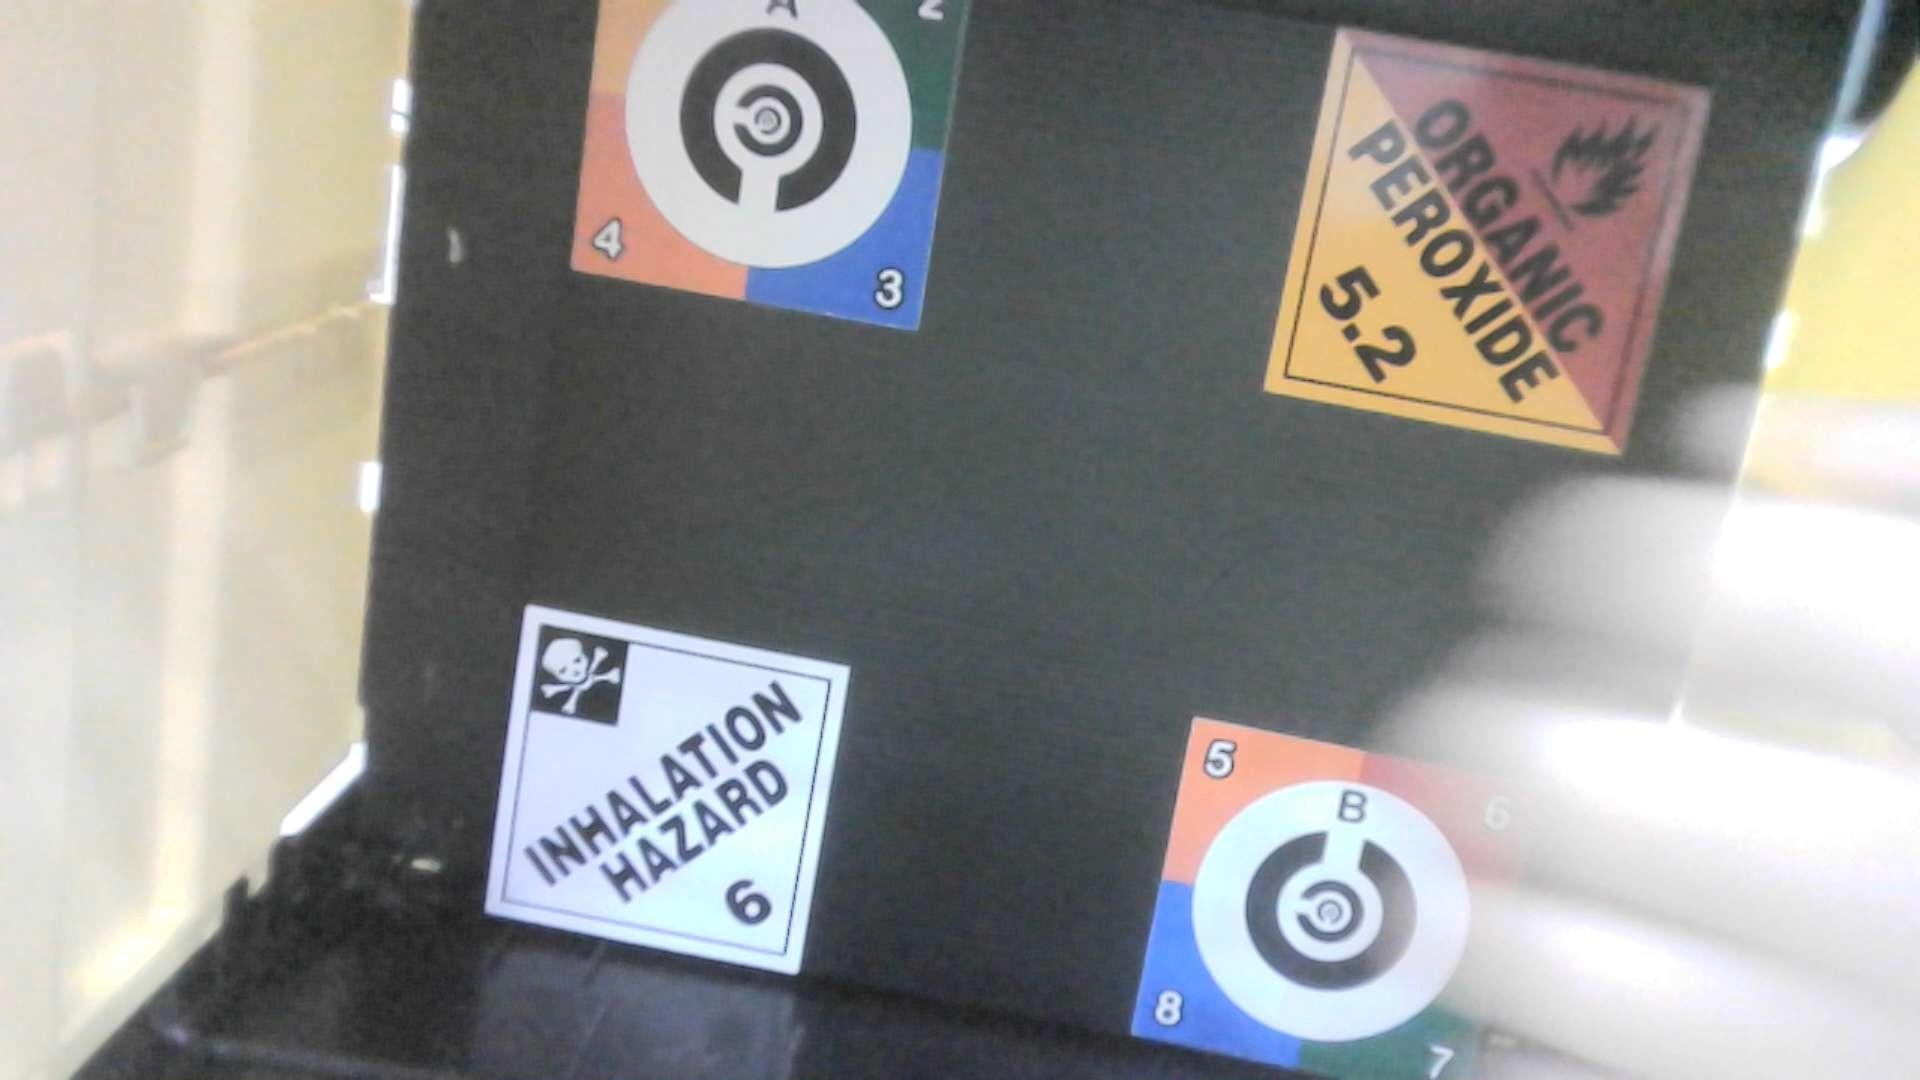organic-peroxide: (1265, 32, 1706, 454)
poison: (484, 597, 855, 984)
